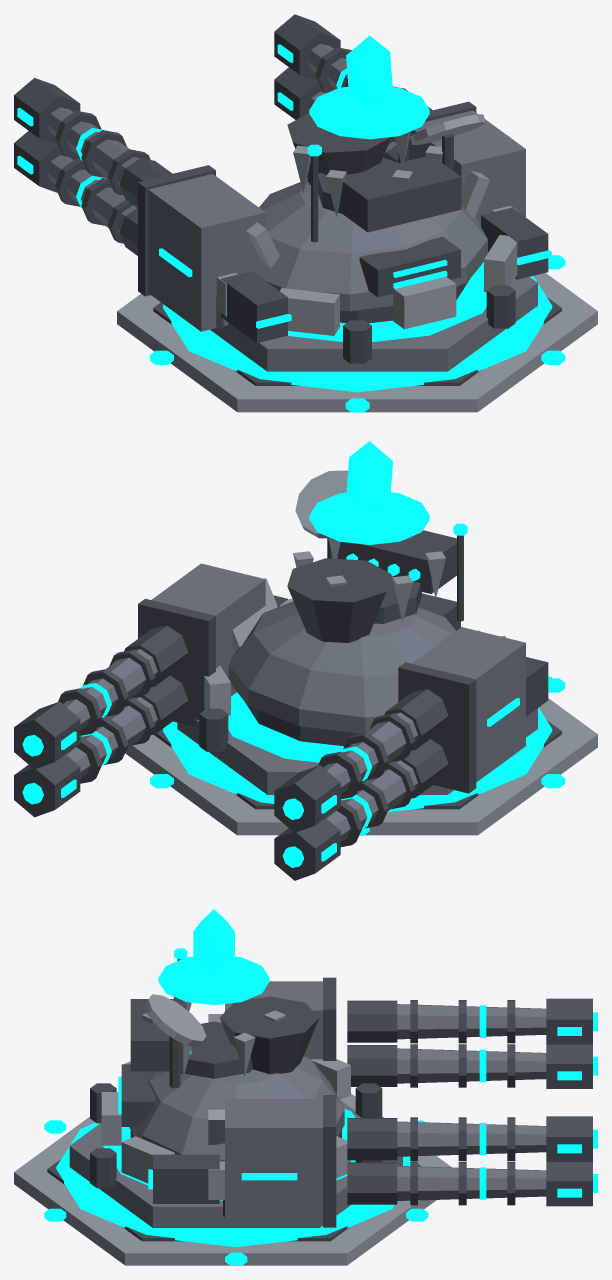
File: turret_lvl8.glb
The picture shows the model from 3 angles, top to bottom: view 1: azimuth 30°, elevation 25°; view 2: azimuth 150°, elevation 25°; view 3: azimuth 270°, elevation 25°; orthographic projection. The views are drawn at different scales.
Visible parts, largest first — view 1: BaseTier_73, Dome_05, PodBody_07, Base_01, Neon_BaseRing2_103, MissileRack_90, PodBody_30, Neon_CoreRing_102, SaddleBag_68, BackVent_55, CentreSensor_53, Neon_BaseRing_03 (+32 smaller); view 2: Dome_05, BaseTier_73, PodBody_07, CentreSensor_53, PodPlate_08, Neon_BaseRing2_103, PodBody_30, PodPlate_31, Neon_CoreRing_102, Base_01, MissileRack_90, MuzzleBrake_49 (+33 smaller); view 3: BaseTier_73, PodBody_30, Dome_05, Neon_BaseRing2_103, Base_01, CentreSensor_53, BarrelTube_11, Neon_CoreRing_102, BarrelTube_44, BarrelTube_21, BarrelTube_34, SaddleBag_70 (+28 smaller).
Boxes of the visible parts, x1,y1,x2,y2 form: BaseTier_73: [117, 273, 597, 412]; Dome_05: [252, 179, 487, 311]; PodBody_07: [148, 174, 265, 331]; Base_01: [210, 276, 537, 371]; Neon_BaseRing2_103: [163, 276, 552, 392]; MissileRack_90: [338, 156, 461, 232]; PodBody_30: [408, 110, 525, 226]; Neon_CoreRing_102: [309, 86, 429, 139]; SaddleBag_68: [221, 271, 287, 342]; BackVent_55: [359, 237, 460, 297]; CentreSensor_53: [287, 113, 391, 184]; Neon_BaseRing_03: [287, 262, 486, 341]; Dome_05: [228, 601, 455, 733]; BaseTier_73: [125, 698, 597, 835]; PodBody_07: [412, 627, 525, 782]; CentreSensor_53: [287, 558, 391, 642]; PodPlate_08: [398, 662, 476, 793]; Neon_BaseRing2_103: [163, 707, 552, 812]; PodBody_30: [151, 563, 265, 696]; PodPlate_31: [138, 598, 215, 726]; Neon_CoreRing_102: [309, 492, 429, 544]; Base_01: [177, 708, 537, 794]; MissileRack_90: [337, 530, 456, 593]; MuzzleBrake_49: [14, 701, 80, 769]; BaseTier_73: [14, 1093, 451, 1265]; PodBody_30: [225, 1099, 322, 1223]; Dome_05: [129, 1056, 344, 1161]; Neon_BaseRing2_103: [56, 1122, 412, 1246]; Base_01: [69, 1100, 402, 1227]; CentreSensor_53: [219, 996, 319, 1074]; BarrelTube_11: [397, 1048, 546, 1083]; Neon_CoreRing_102: [158, 956, 269, 1005]; BarrelTube_44: [397, 1121, 546, 1156]; BarrelTube_21: [397, 1004, 546, 1039]; BarrelTube_34: [397, 1166, 546, 1200]; SaddleBag_70: [153, 1154, 219, 1203].
Size of the model in its own units: 6.29 by 4.37 by 8.41.
